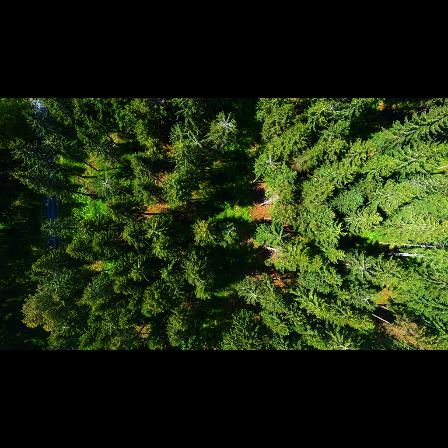Sick: (213, 111, 240, 135), (352, 257, 375, 282), (98, 172, 119, 194), (245, 285, 266, 304), (187, 134, 210, 151), (261, 153, 281, 172), (334, 336, 357, 350)
